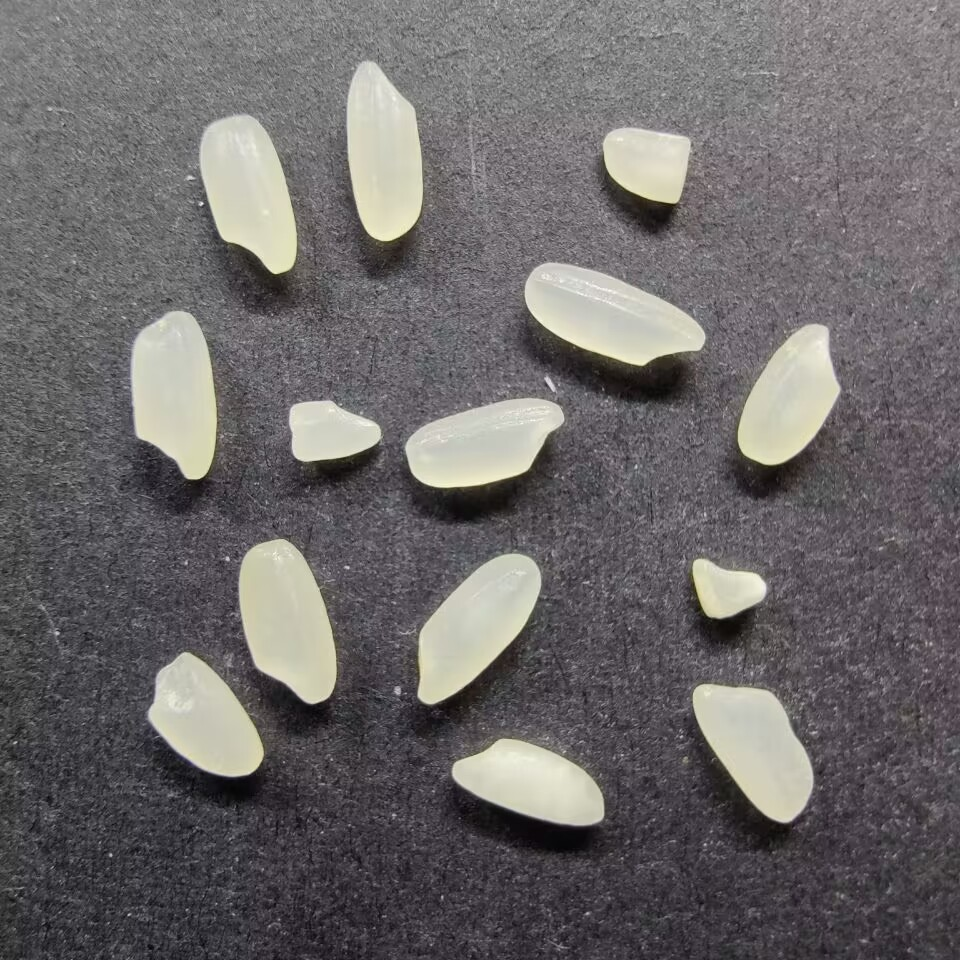broken: (145, 650, 266, 778), (600, 125, 692, 207), (287, 398, 383, 462), (690, 555, 768, 620)
rice: (521, 260, 708, 368), (415, 553, 543, 705), (690, 683, 817, 825), (237, 538, 339, 707), (197, 113, 299, 275), (127, 310, 218, 481), (404, 395, 566, 491), (736, 322, 843, 466), (344, 57, 423, 243), (448, 737, 607, 828)
